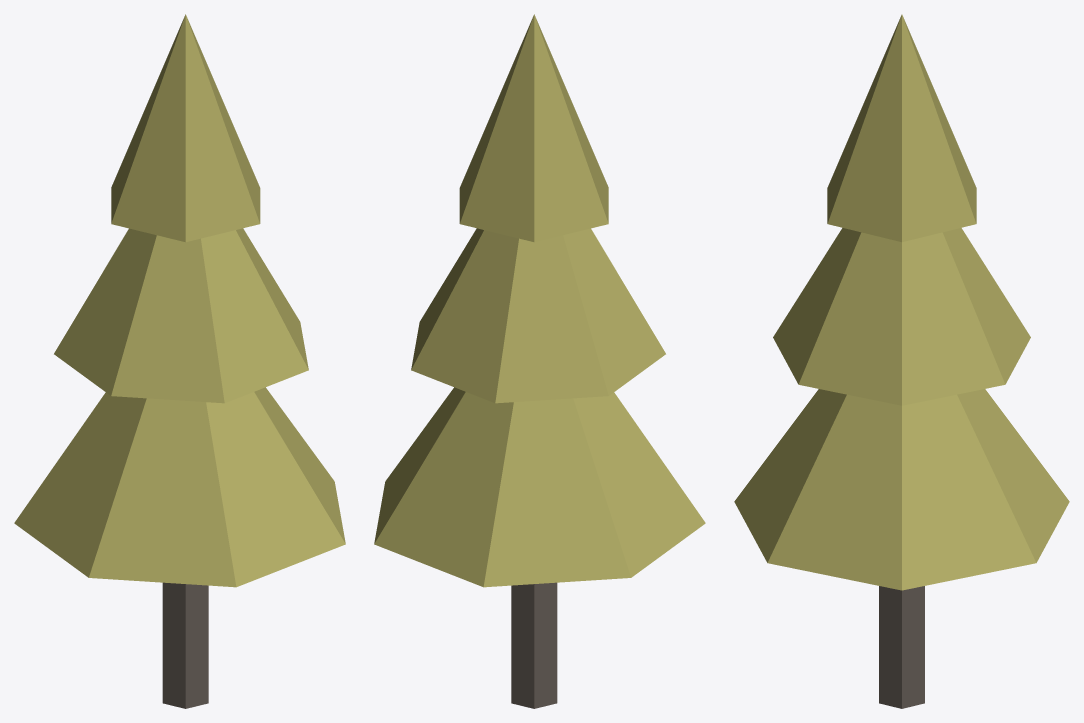
Rendered from haunted_pine_small.glb.
3 views of the same model, side by side, from view 1: azimuth 30°, elevation 25°; view 2: azimuth 150°, elevation 25°; view 3: azimuth 270°, elevation 25° (orthographic).
Visible parts, largest first — view 1: Haunted_Pine_Small; view 2: Haunted_Pine_Small; view 3: Haunted_Pine_Small.
Part boxes in pixels (x1,y1,x2,y2): Haunted_Pine_Small: (14, 14, 345, 708); Haunted_Pine_Small: (374, 14, 705, 708); Haunted_Pine_Small: (734, 14, 1069, 708).
Bounding box in the file's own units: 2.47 × 5.7 × 2.53.
